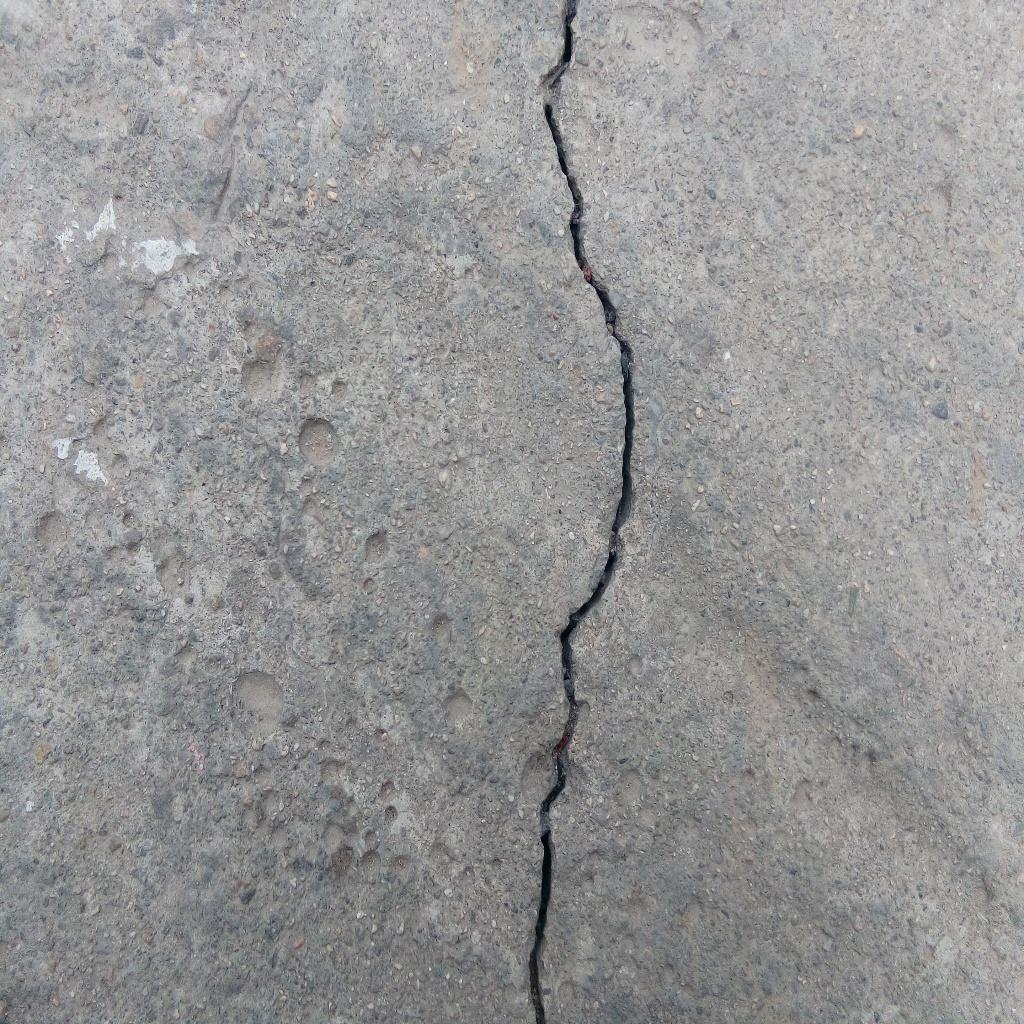Crack: (525, 1, 637, 1024)
